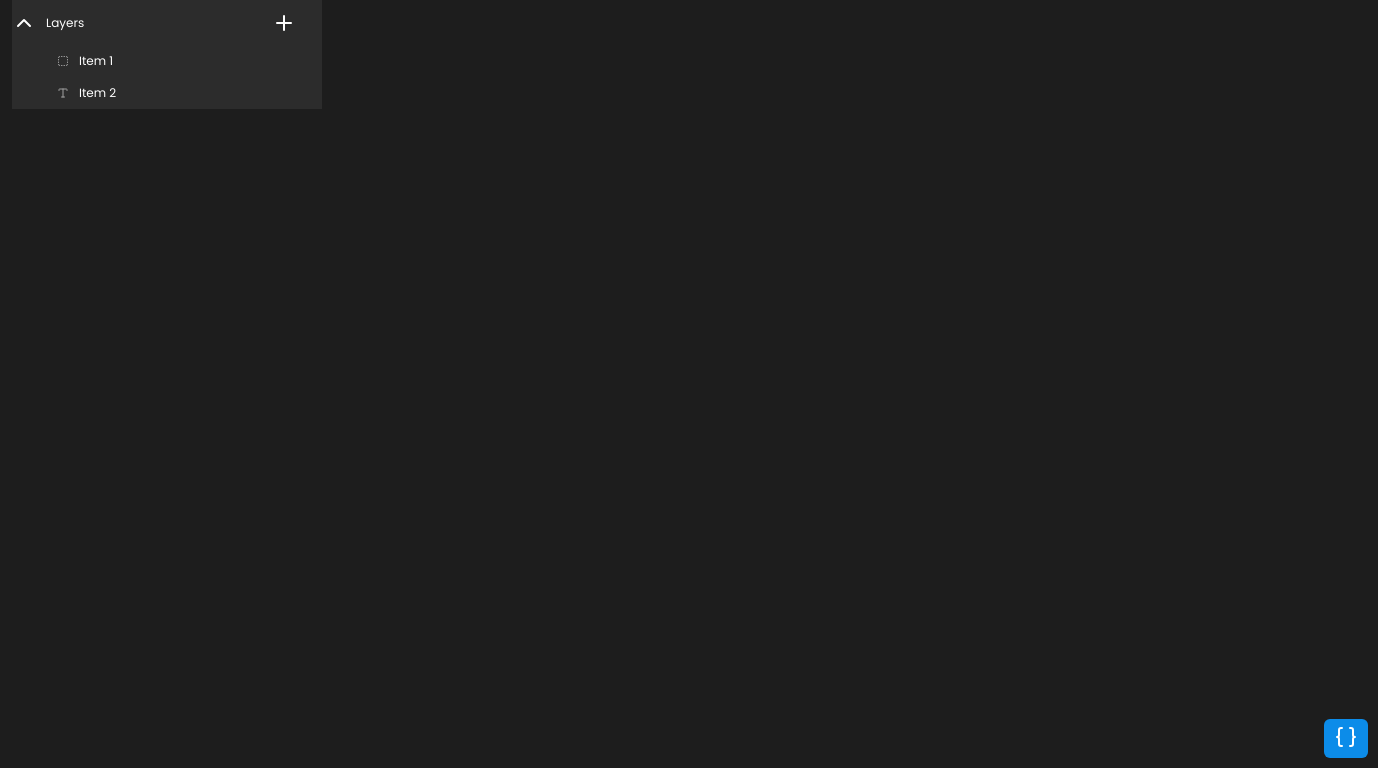
Test: NestedMenu Interactions › selecting dropdown item adds new item and closes dropdown
Click the button named "add-header-button". click: point(284, 22)
box: [266,4,302,40]
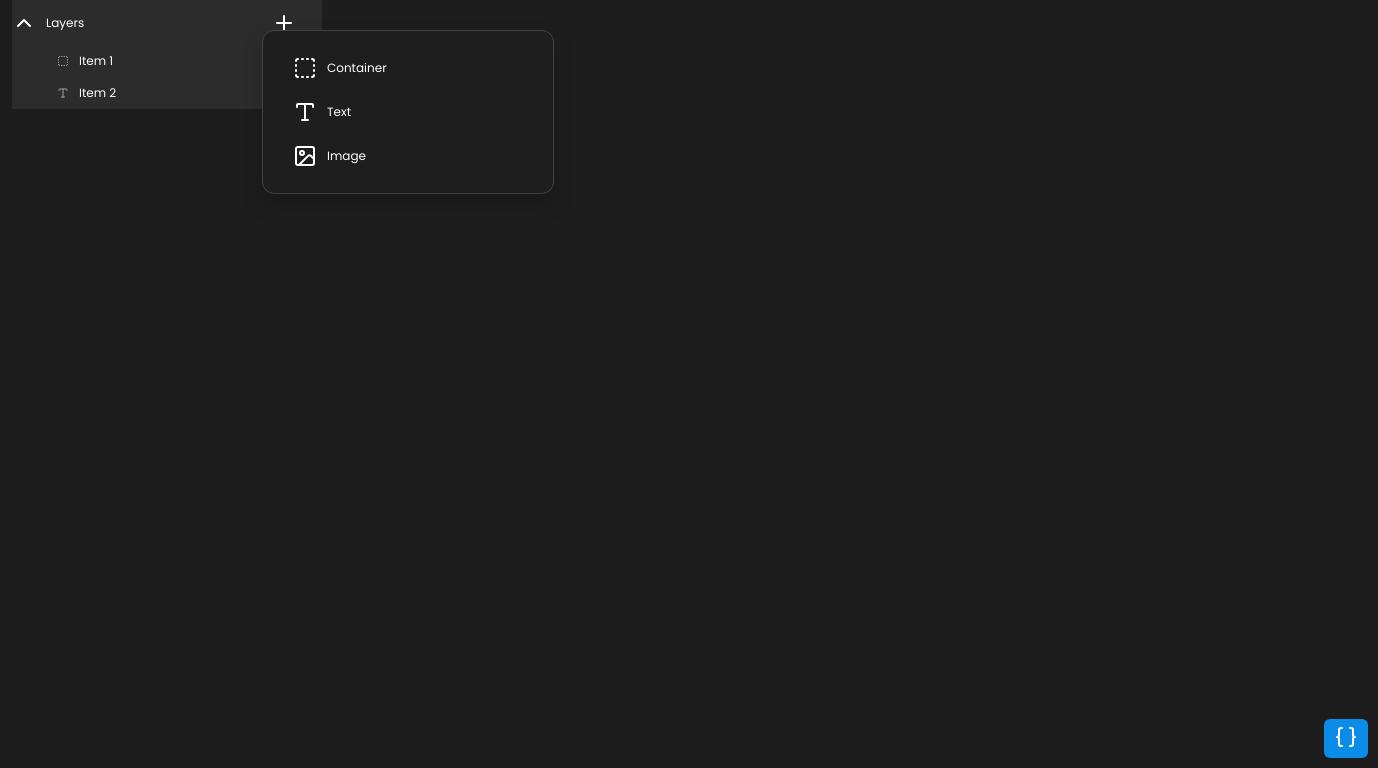
Click the text "Container". click: point(357, 68)
box: [327,59,387,77]
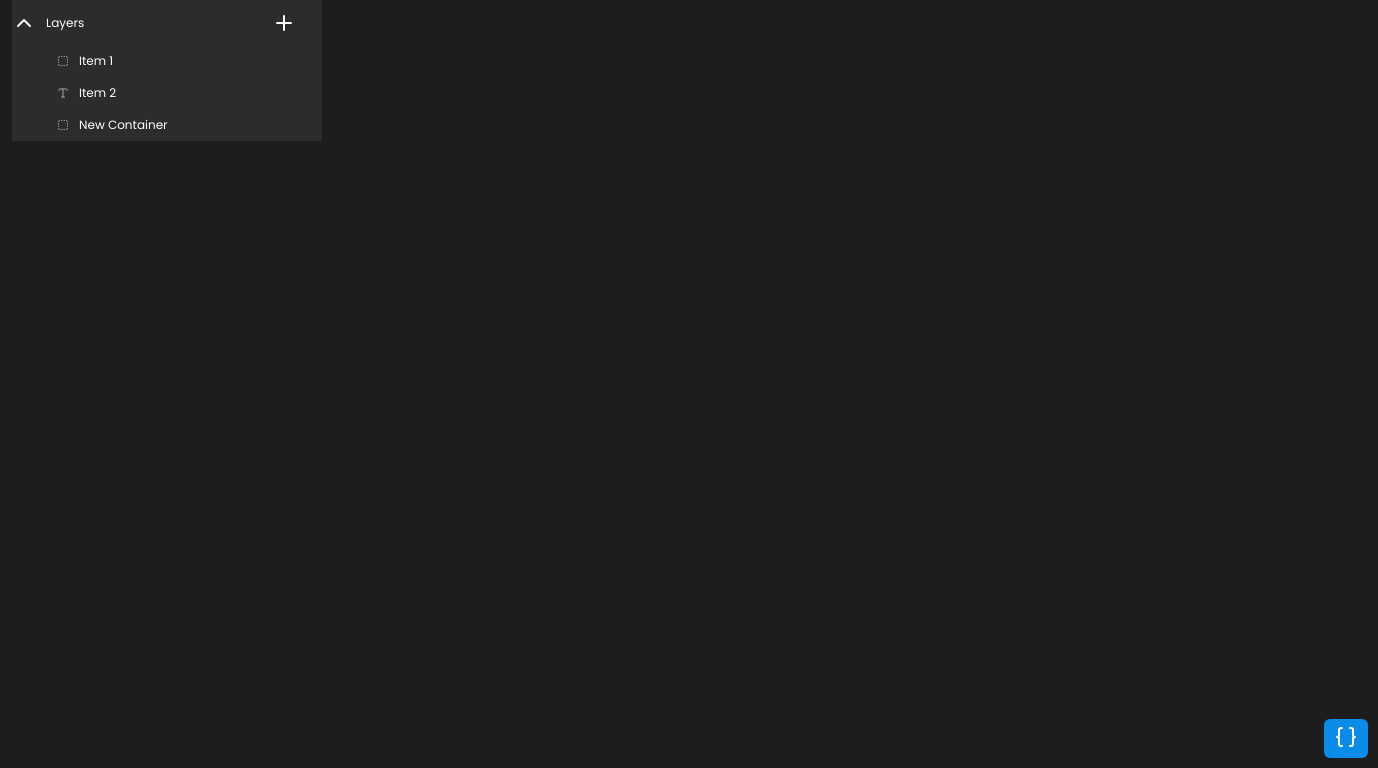
Expected: the text "New Container" is shown, [79,116,168,134]
